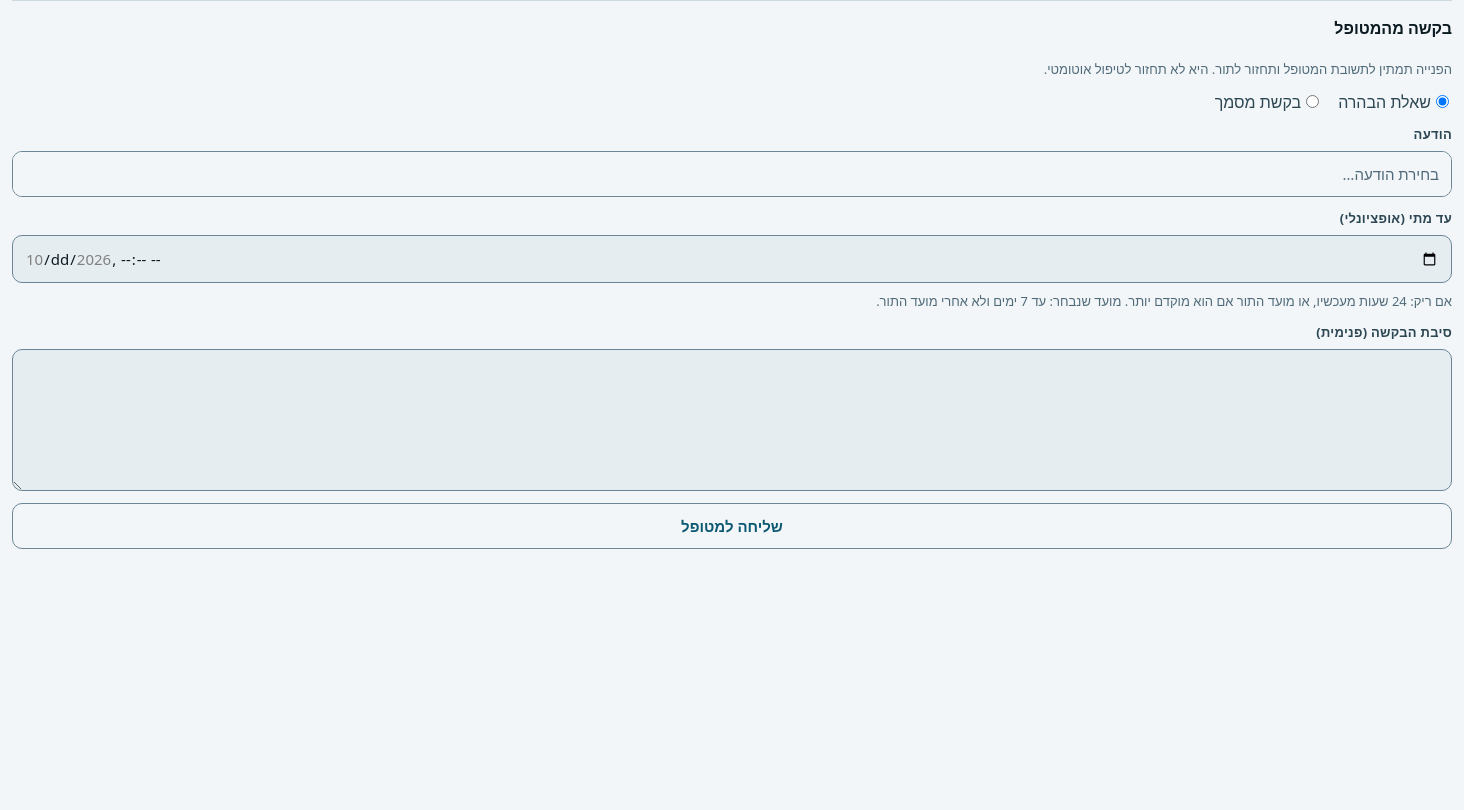
Test: PatientRequest › requires a document type before sending
Click the radio button labelled "בקשת מסמך" at (1313, 102), box [1306,95,1319,108]
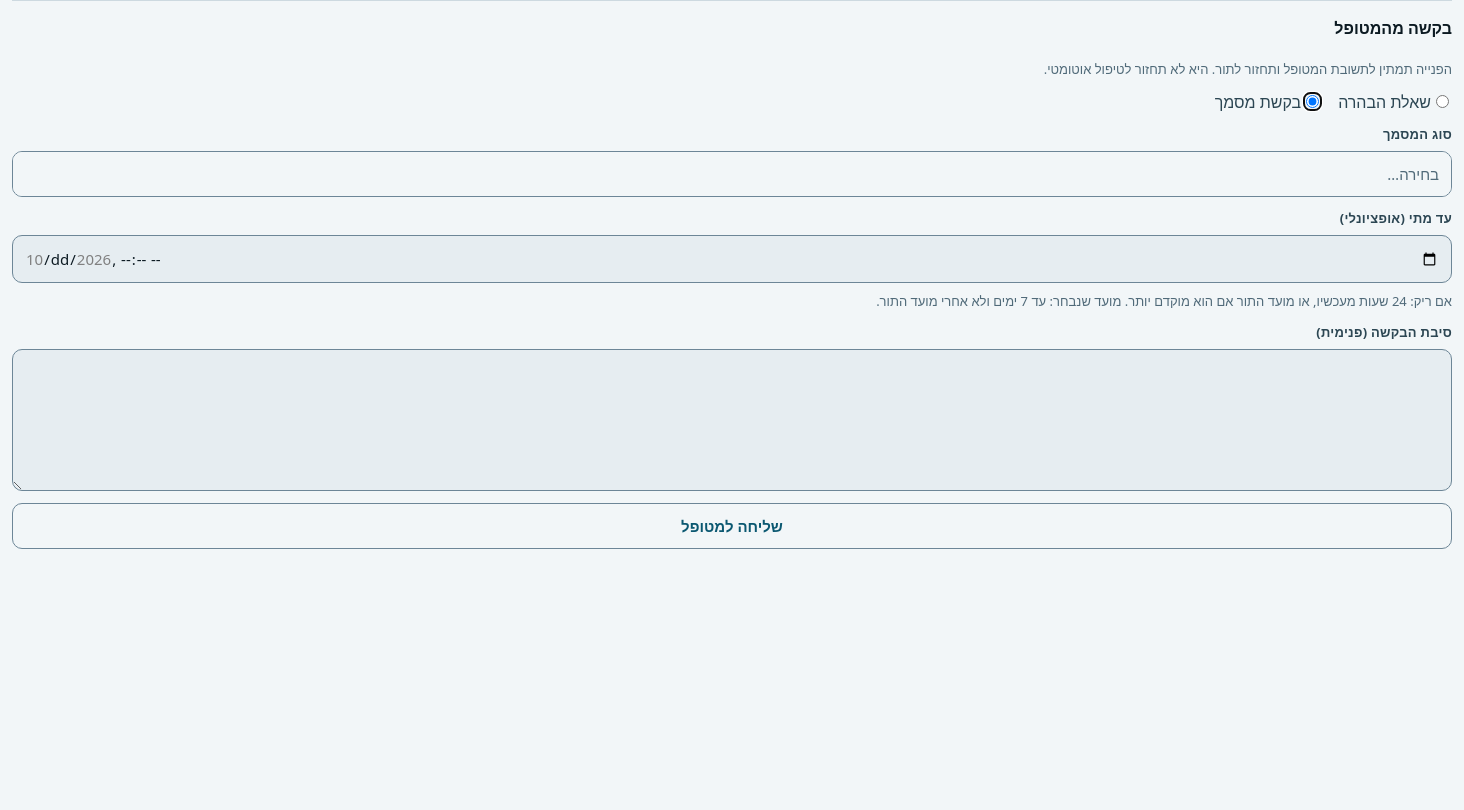
Type "r" into the text box labelled "סיבת הבקשה (פנימית)" at (732, 420), box [13,350,1451,490]
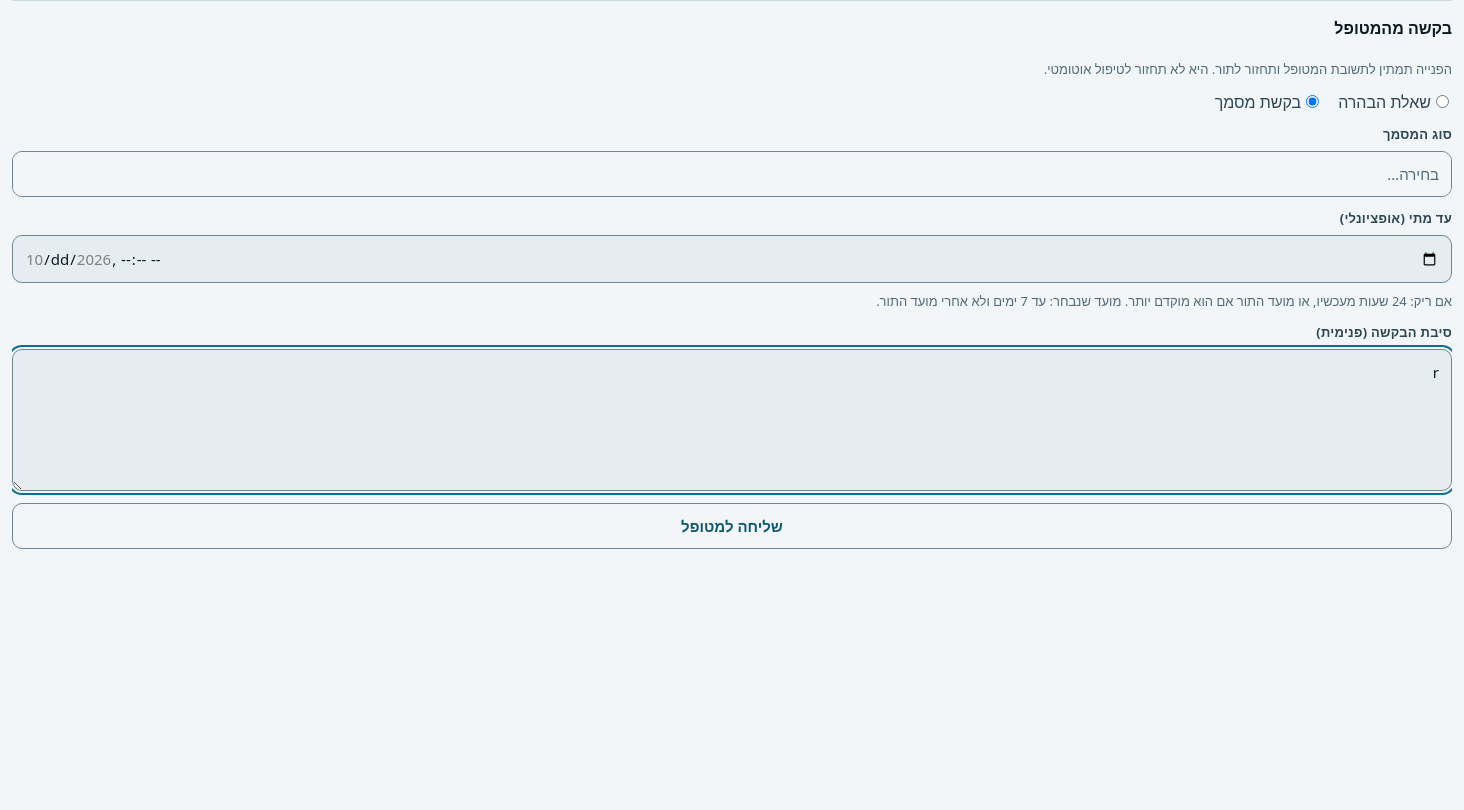
Click the button "שליחה למטופל" at (732, 526), box [12,503,1452,549]
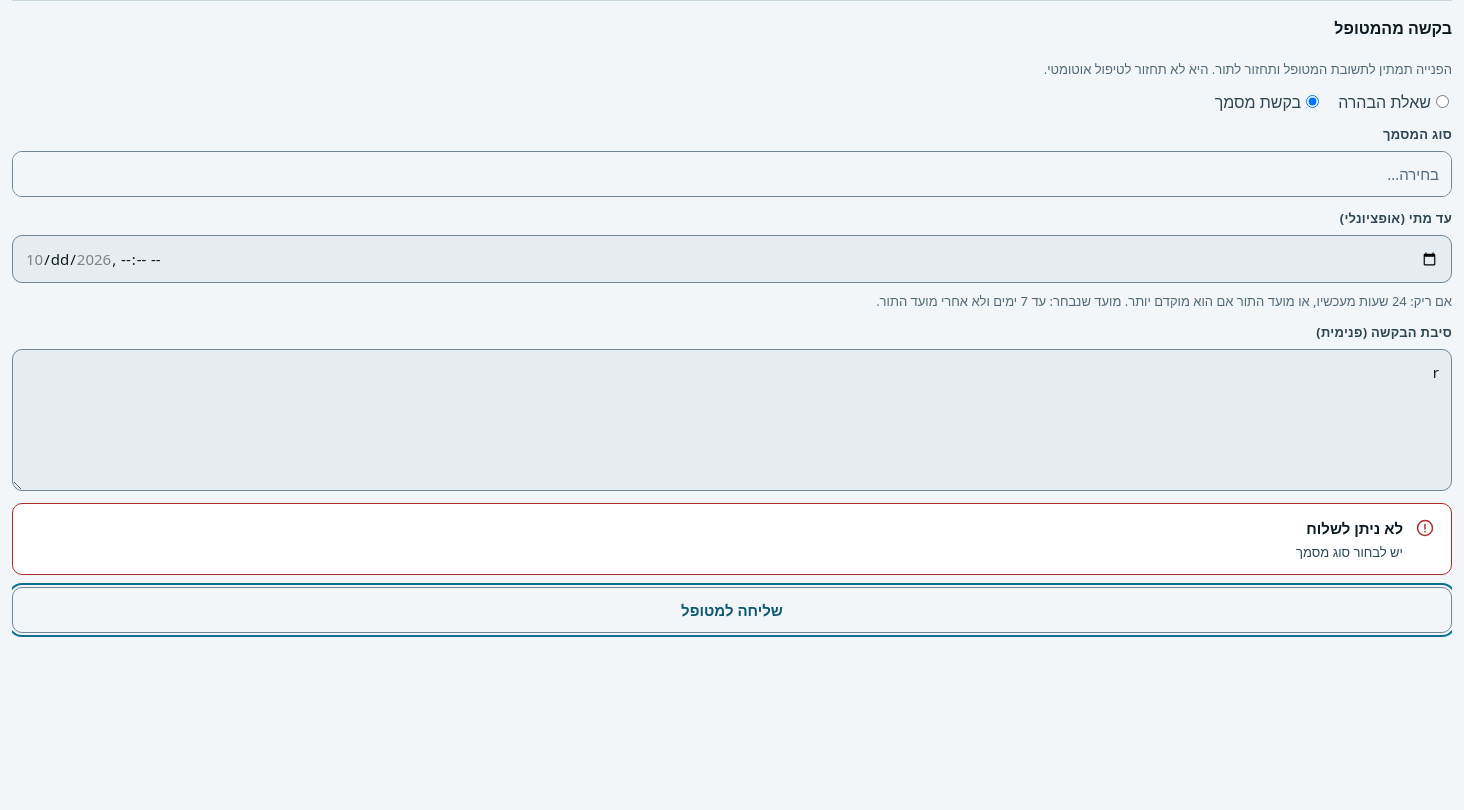
Result: the text "יש לבחור סוג מסמך" is shown at [1296,542,1403,562]
